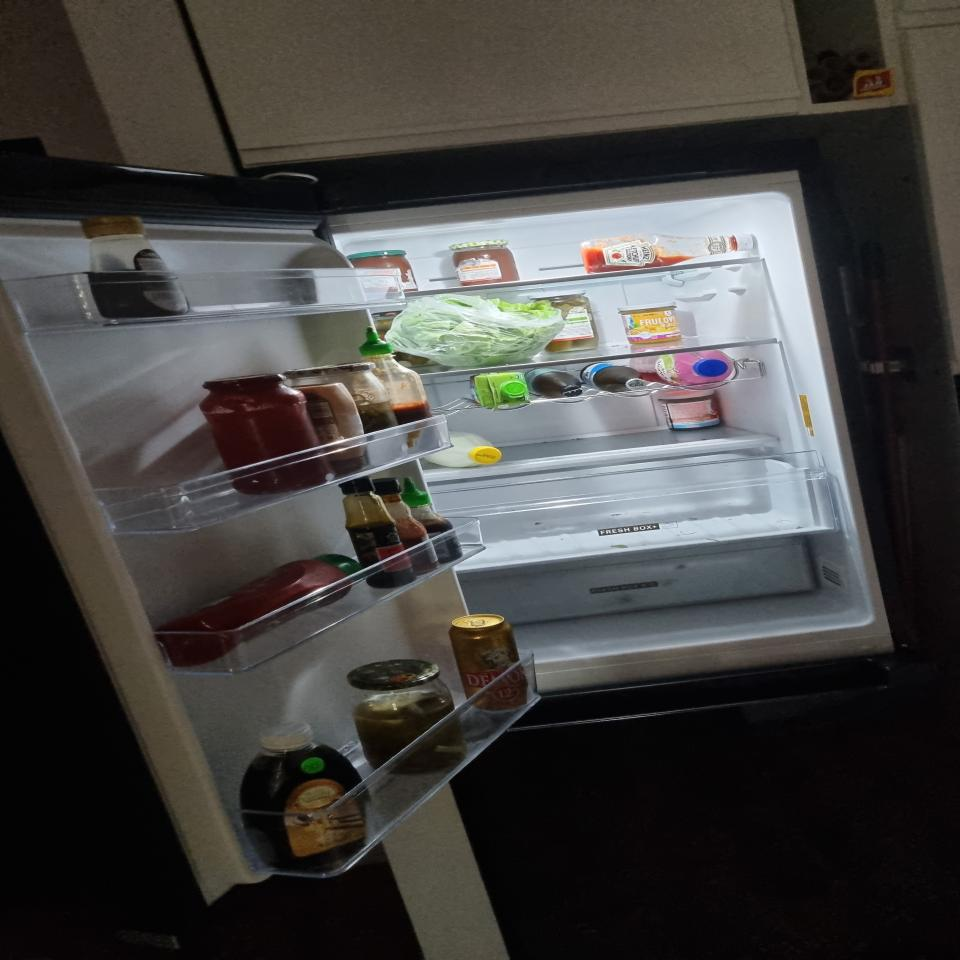Leche: (422, 430, 501, 468)
Lechuga/Endivia: (384, 294, 566, 367)
ketchup: (150, 554, 366, 666), (571, 232, 755, 274)
